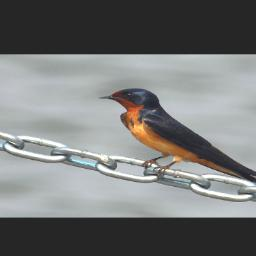Swallow: (97, 88, 256, 187)
